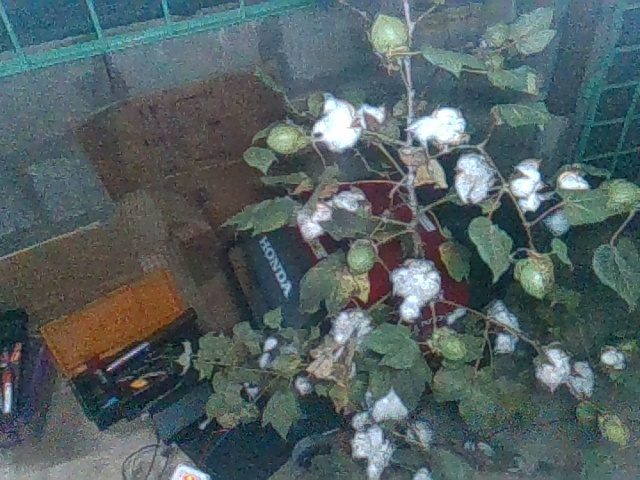cotton: (290, 184, 368, 242), (385, 257, 445, 323), (306, 90, 364, 154), (350, 382, 417, 430), (403, 105, 473, 150), (351, 424, 401, 480), (452, 152, 499, 206), (487, 298, 525, 357), (507, 155, 544, 215), (537, 343, 573, 391), (551, 164, 597, 201), (329, 309, 378, 343), (568, 357, 596, 402), (540, 208, 581, 236), (403, 420, 436, 447), (358, 100, 390, 126), (596, 348, 626, 374), (411, 465, 435, 480)
